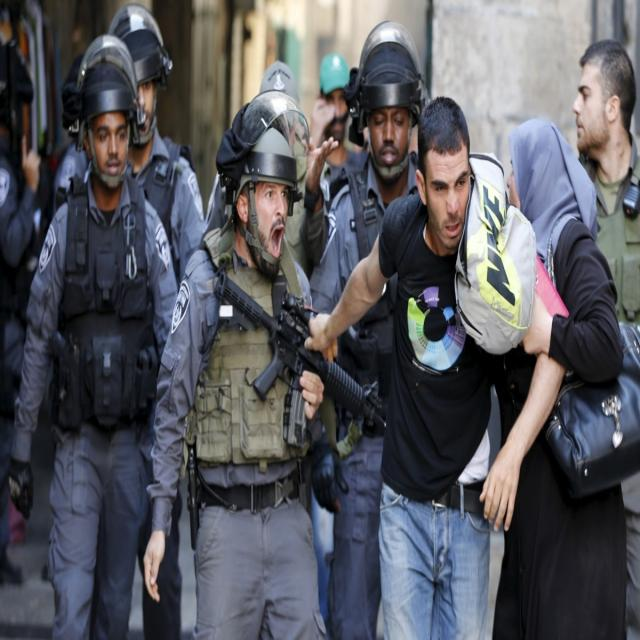police: (160, 65, 386, 640), (7, 10, 172, 640), (305, 16, 439, 640)
